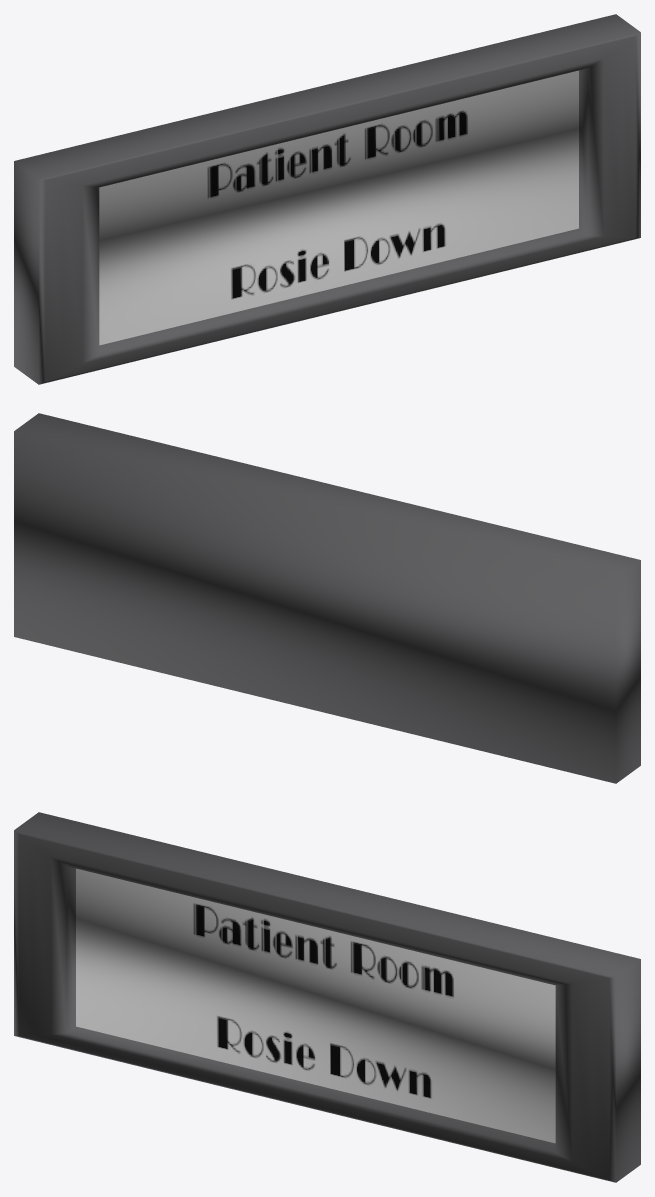
Rendered from Schild Therapie.fbx.
The picture shows the model from 3 angles, top to bottom: view 1: azimuth 30°, elevation 25°; view 2: azimuth 150°, elevation 25°; view 3: azimuth 330°, elevation 25°; orthographic projection.
Visible parts, largest first — view 1: Schild Rosie; view 2: Schild Rosie; view 3: Schild Rosie.
Part boxes in pixels (x1,y1,x2,y2): Schild Rosie: [14, 14, 640, 384]; Schild Rosie: [14, 413, 640, 783]; Schild Rosie: [14, 812, 640, 1182].
Size of the model in its own units: 36.98 by 12.07 by 3.05.
